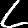L: (0, 0, 28, 28)
